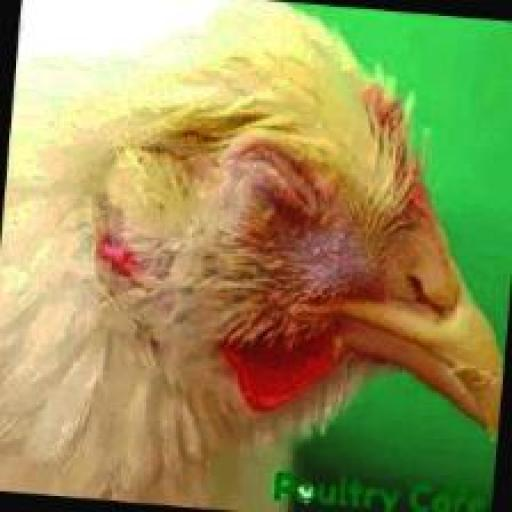disease: (216, 108, 330, 224)
